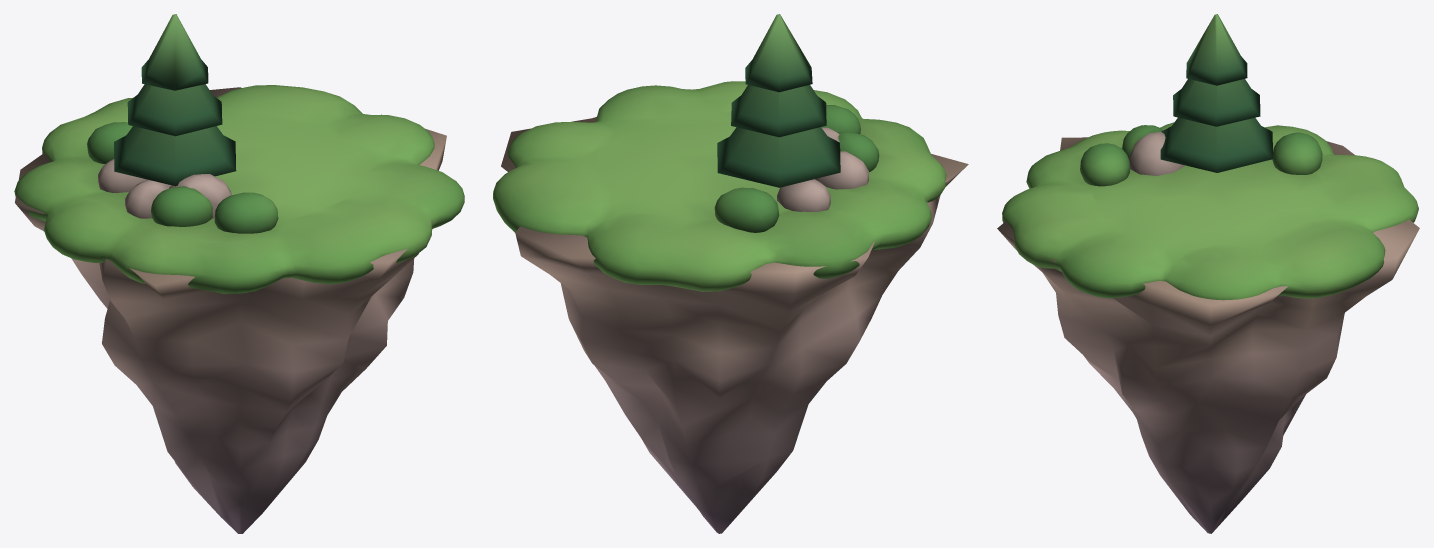
Rendered from env_sky_islet_1.glb.
3 renders of one model, left to right at view 1: azimuth 30°, elevation 25°; view 2: azimuth 150°, elevation 25°; view 3: azimuth 270°, elevation 25°, orthographic. The views are drawn at different scales.
Parts seen in each view (by area): view 1: SM_sky_sky_vc_x0_z0.026; view 2: SM_sky_sky_vc_x0_z0.026; view 3: SM_sky_sky_vc_x0_z0.026.
Part boxes in pixels (x1,y1,x2,y2): SM_sky_sky_vc_x0_z0.026: [14, 14, 464, 533]; SM_sky_sky_vc_x0_z0.026: [493, 14, 968, 533]; SM_sky_sky_vc_x0_z0.026: [997, 14, 1419, 533].
Bounding box in the file's own units: 7.78 × 9.82 × 7.68.
